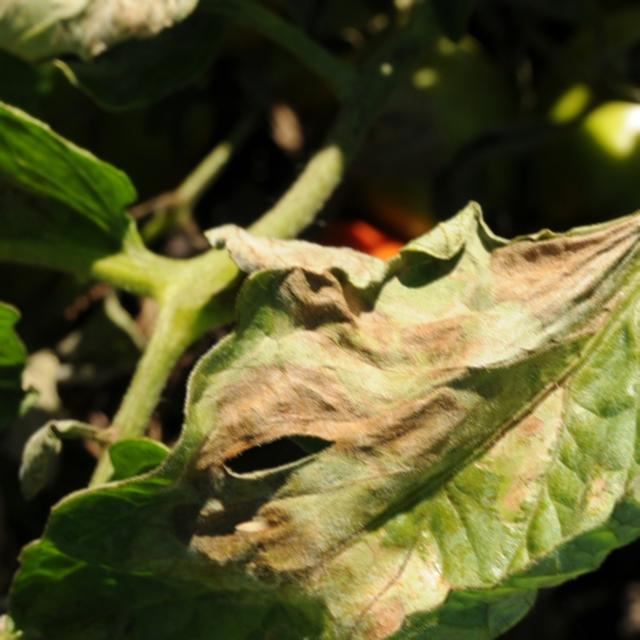Tomato leaf late blight: (29, 189, 640, 640)
